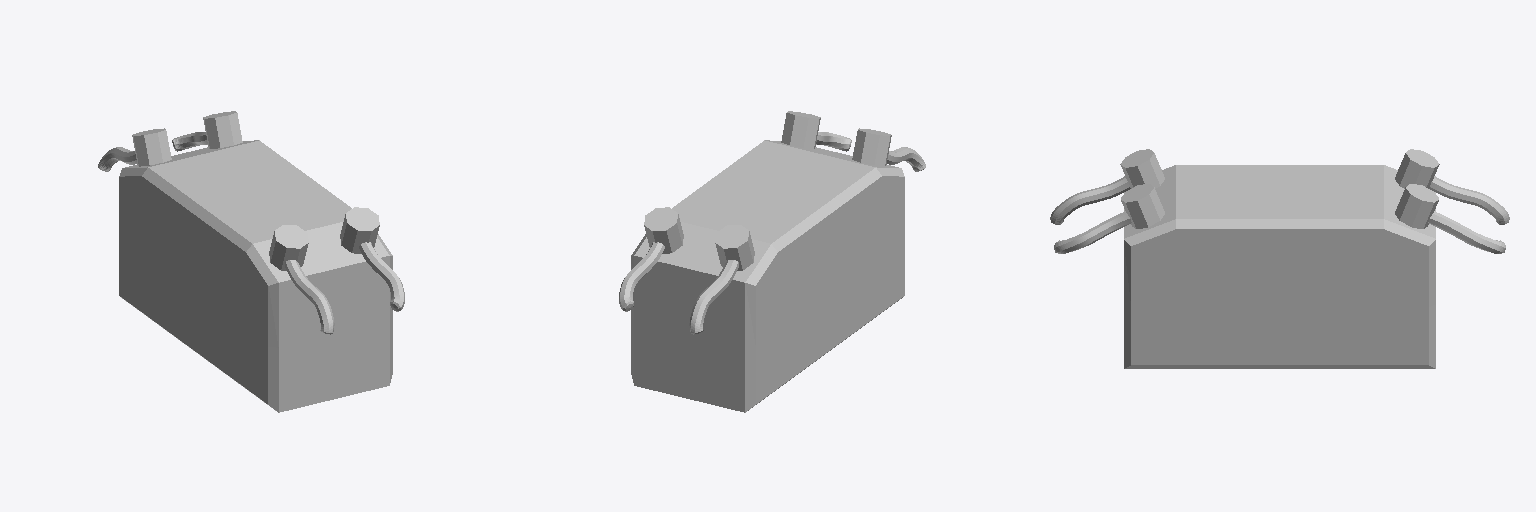
File: Batery.OBJ
3 renders of one model, left to right at view 1: azimuth 30°, elevation 25°; view 2: azimuth 150°, elevation 25°; view 3: azimuth 270°, elevation 25°, orthographic.
Visible parts, largest first — view 1: Group44162; view 2: Group44162; view 3: Group44162.
Part boxes in pixels (x1,y1,x2,y2): Group44162: (98, 111, 404, 412); Group44162: (619, 111, 925, 412); Group44162: (1050, 149, 1509, 368).
Bounding box in the file's own units: 1.12 × 1.48 × 3.59.